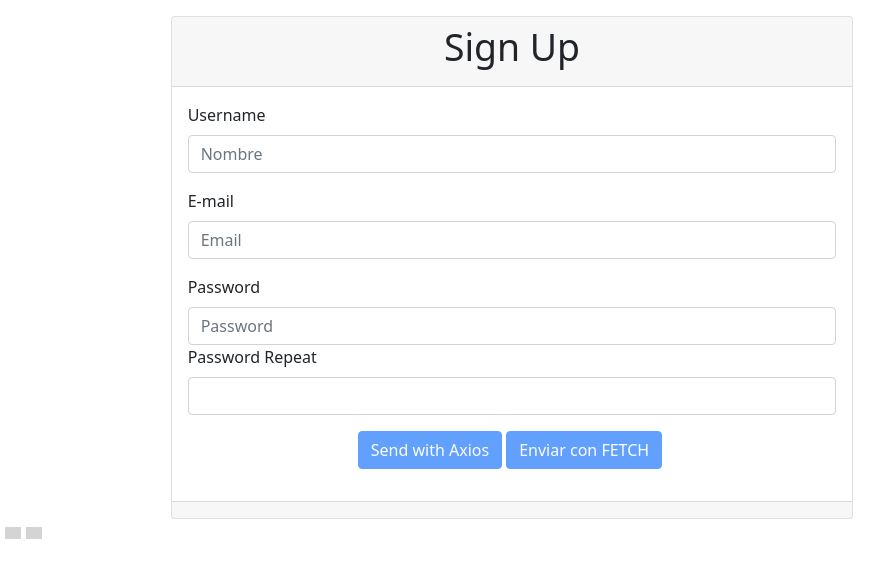
Scenario: Sign Up Page › interactions › should verify that email field has an error
Type "Carlos" into the field with test id "username" at (512, 154), box [188, 135, 836, 173]
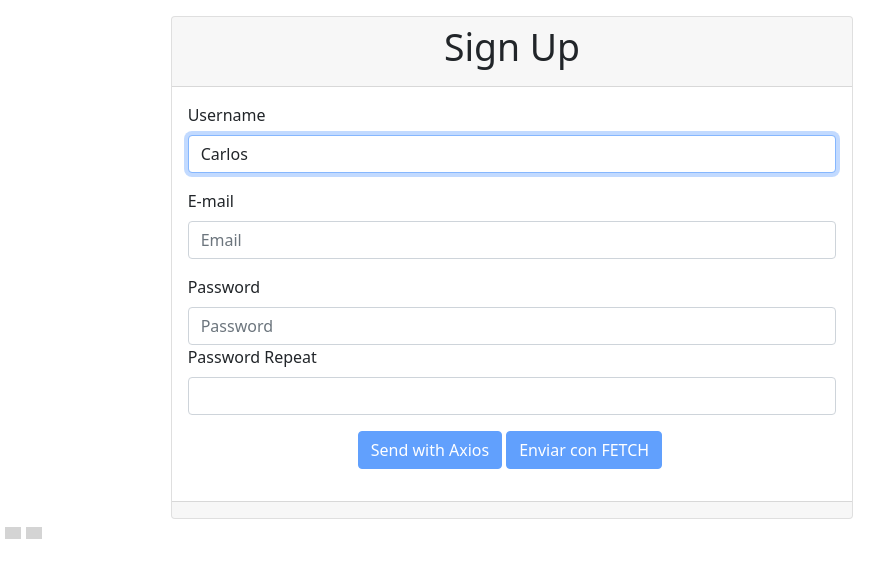
Type "carloscpu83@gmail.com" into the field with test id "email" at (512, 240), box [188, 221, 836, 259]
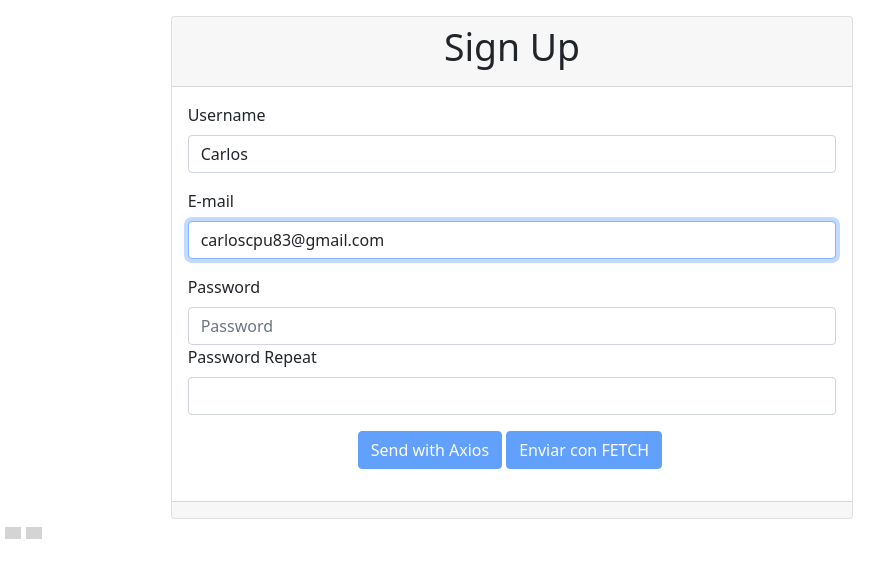
Type "M1pass" into the password field with test id "password" at (512, 326), box [188, 307, 836, 345]
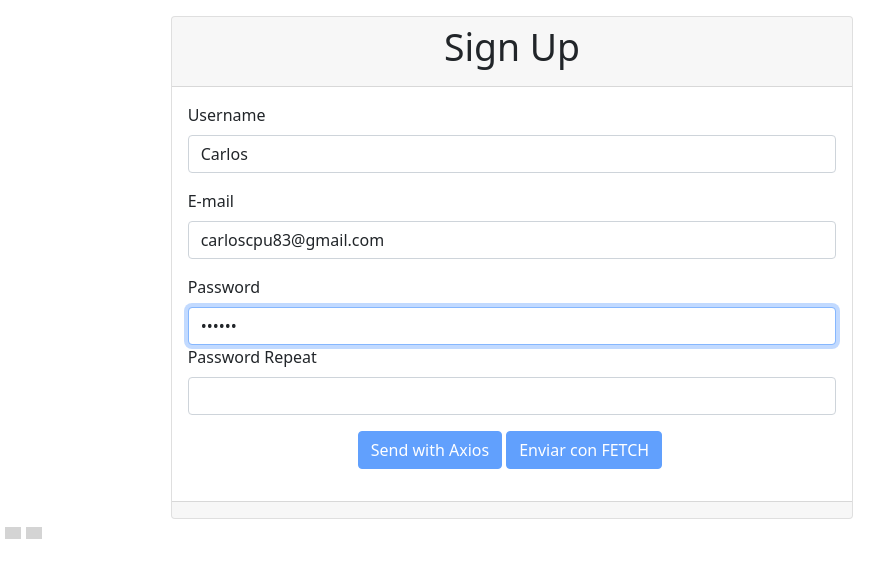
Type "M1pass" into the password field with test id "repeatPassword" at (512, 396), box [188, 377, 836, 415]
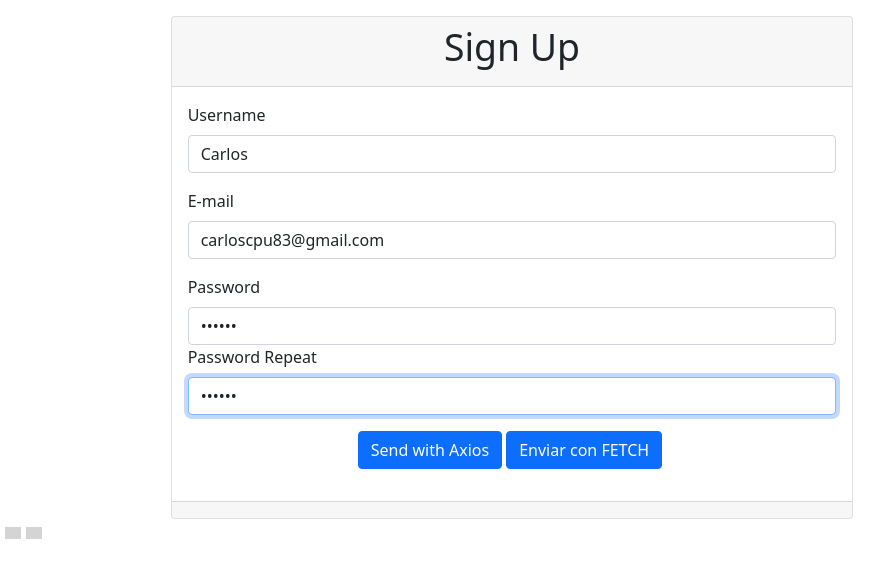
Click the button with test id "sendButton" at (430, 450), box [358, 431, 502, 469]
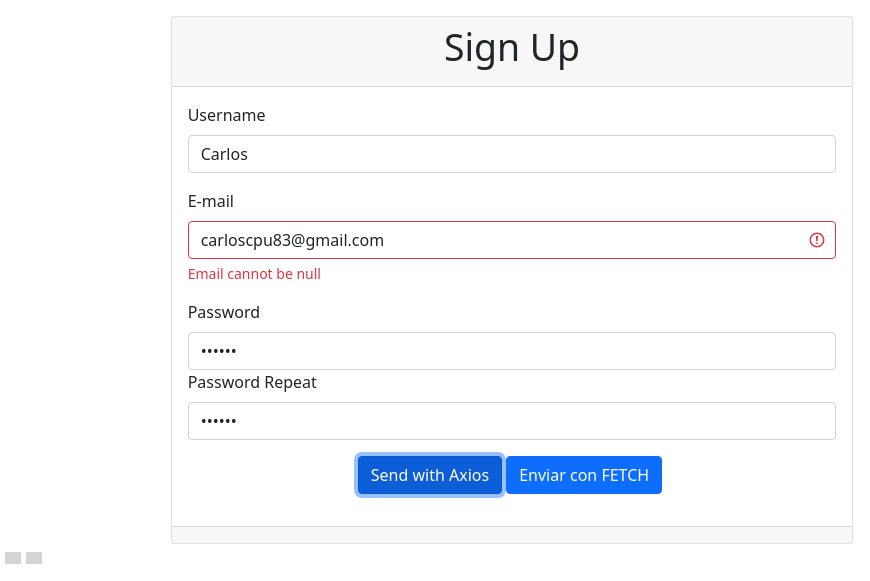
Expected: the text "Email cannot be null" is shown, [188, 264, 321, 283]
